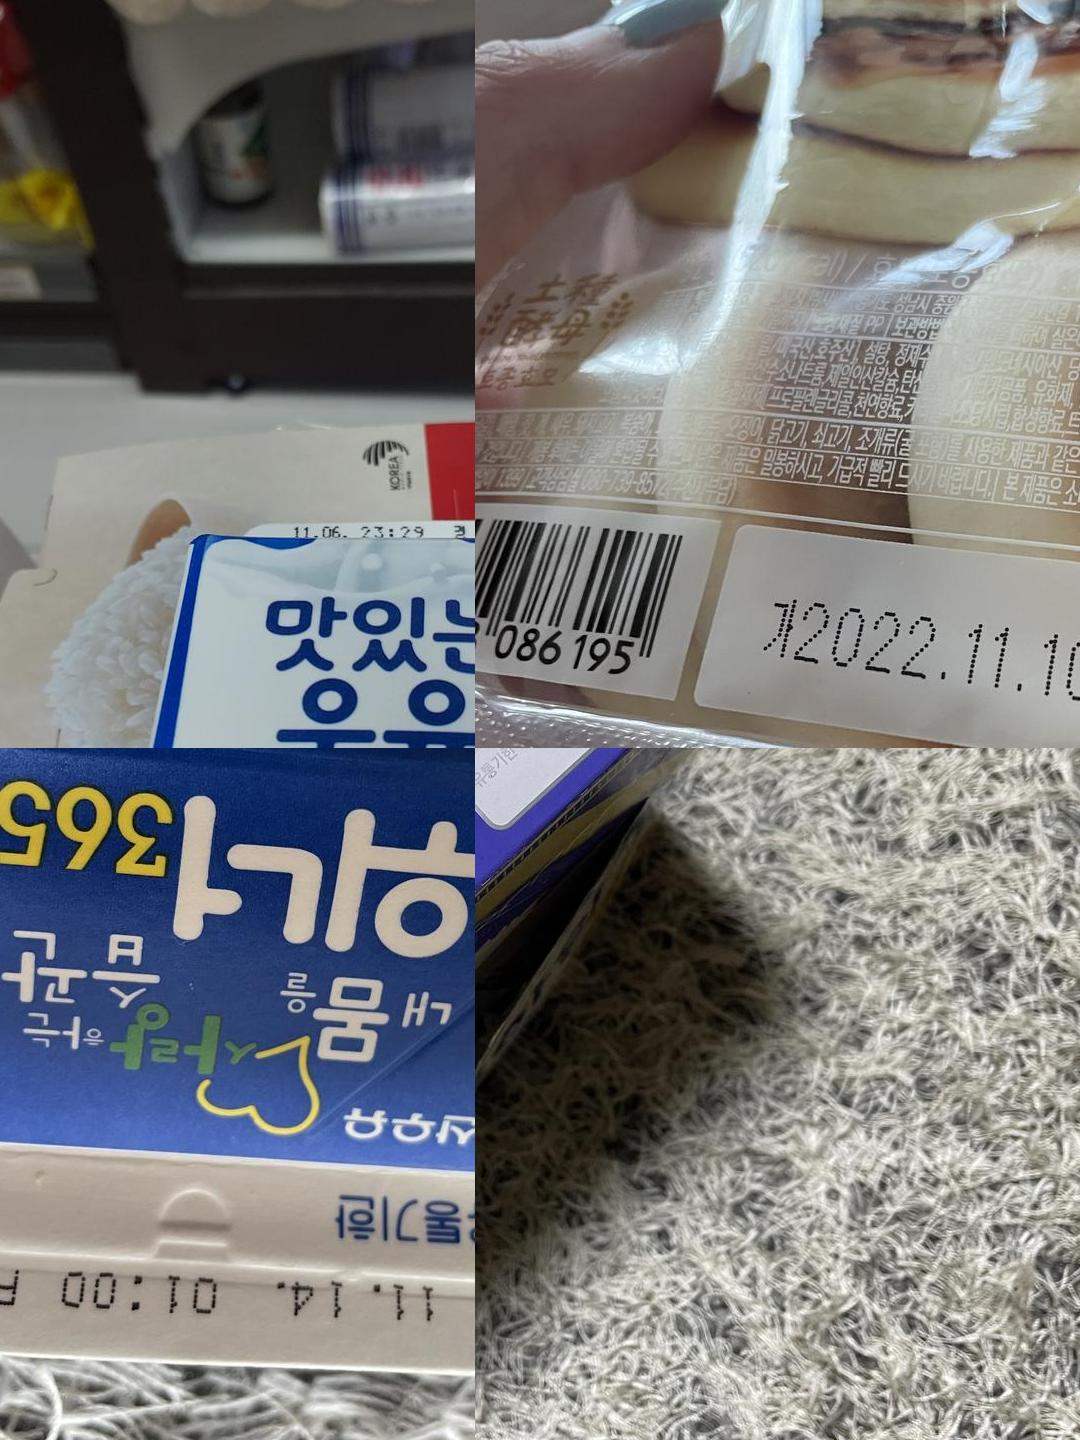milk: (0, 1134, 475, 1394), (244, 516, 475, 542)
snack food: (739, 523, 1080, 748), (486, 748, 699, 842)
